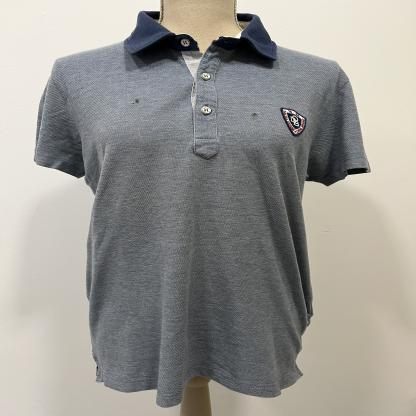stain: (185, 62, 204, 71), (130, 97, 143, 107), (249, 110, 261, 120)
